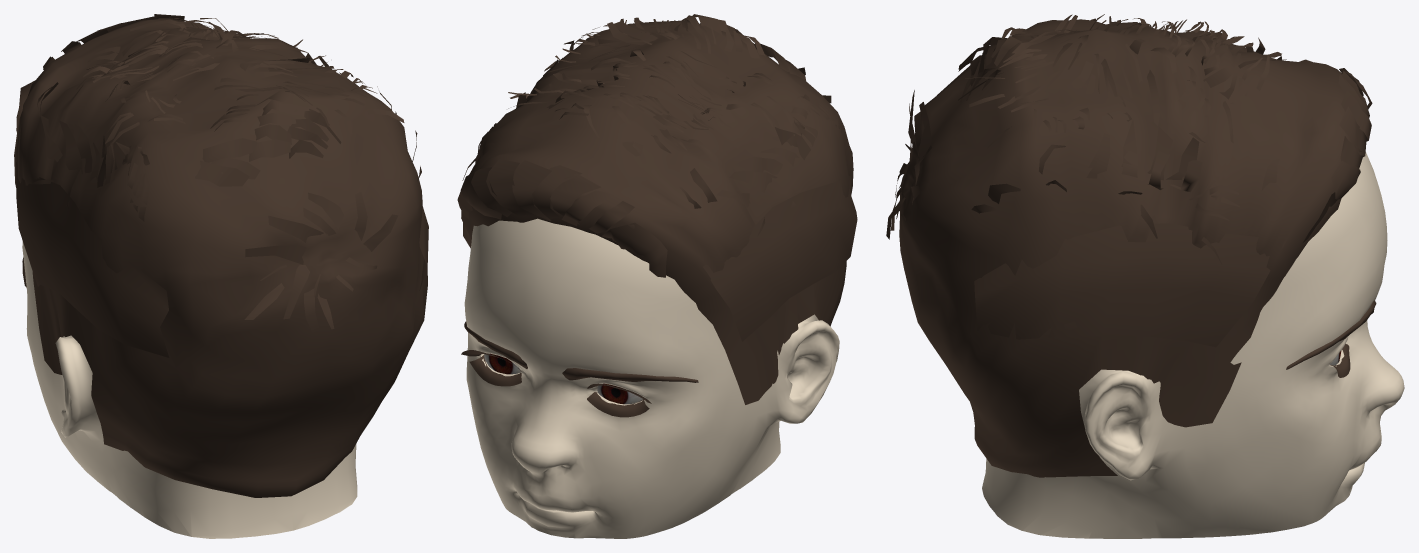
Rendered from porcelain-v15.glb.
3 views of the same model, side by side, from view 1: azimuth 30°, elevation 25°; view 2: azimuth 150°, elevation 25°; view 3: azimuth 270°, elevation 25° (orthographic). The views are drawn at different scales.
Visible parts, largest first — view 1: Kiln cast Child short01, Kiln cast Child skin; view 2: Kiln cast Child short01, Kiln cast Child skin, Kiln cast Child eyelashes01, Kiln cast Child eyebrow001, Kiln cast Child high-poly; view 3: Kiln cast Child short01, Kiln cast Child skin.
Part boxes in pixels (x1=…): Kiln cast Child short01: x1=14, y1=14, x2=428, y2=497; Kiln cast Child skin: x1=22, y1=241, x2=357, y2=538; Kiln cast Child short01: x1=457, y1=14, x2=857, y2=404; Kiln cast Child skin: x1=464, y1=218, x2=839, y2=538; Kiln cast Child eyelashes01: x1=461, y1=350, x2=651, y2=417; Kiln cast Child eyebrow001: x1=464, y1=321, x2=698, y2=382; Kiln cast Child high-poly: x1=484, y1=353, x2=644, y2=404; Kiln cast Child short01: x1=886, y1=14, x2=1372, y2=477; Kiln cast Child skin: x1=982, y1=152, x2=1404, y2=538.
Bounding box in the file's own units: 0.3118 × 0.365 × 0.3768.
5 materials, 1 textured.
